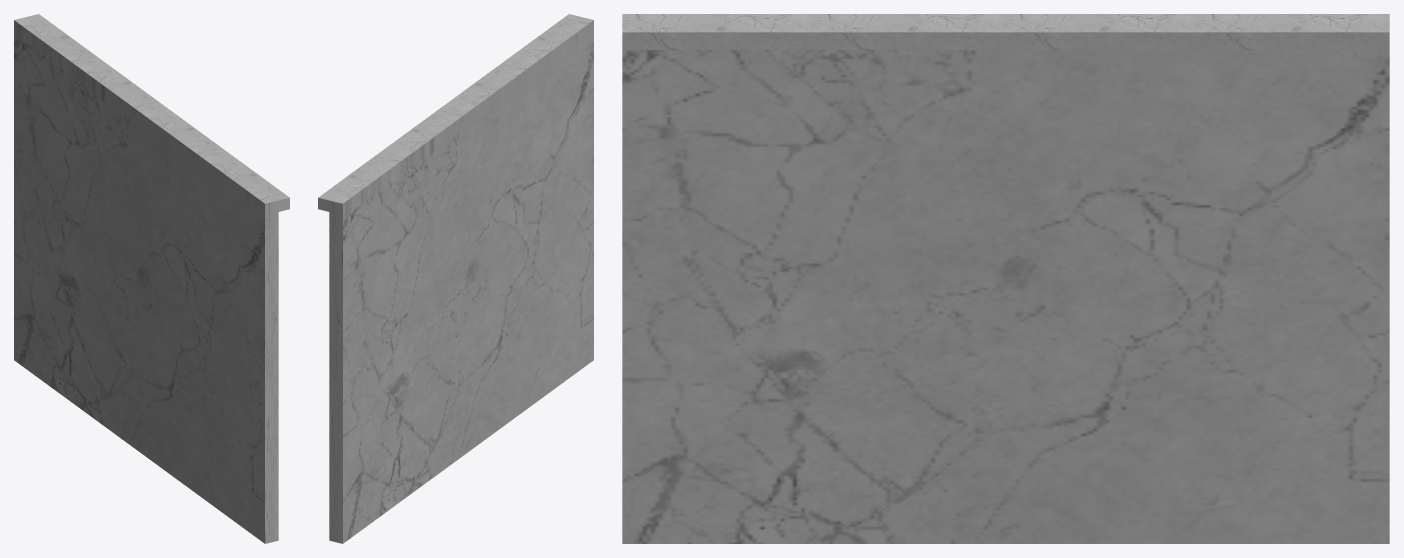
The model's file is vidstand.gltf.
3 views of the same model, side by side, from view 1: azimuth 30°, elevation 25°; view 2: azimuth 150°, elevation 25°; view 3: azimuth 270°, elevation 25° (orthographic). The views are drawn at different scales.
Parts seen in each view (by area): view 1: Cube; view 2: Cube; view 3: Cube.
Part boxes in pixels (box(x1,y1,x2,y2)): Cube: box(14, 14, 289, 543); Cube: box(318, 14, 593, 543); Cube: box(622, 14, 1389, 543).
Bounding box in the file's own units: 0.3484 × 4.57 × 6.11.
Materials: 1 (1 with a texture image).
